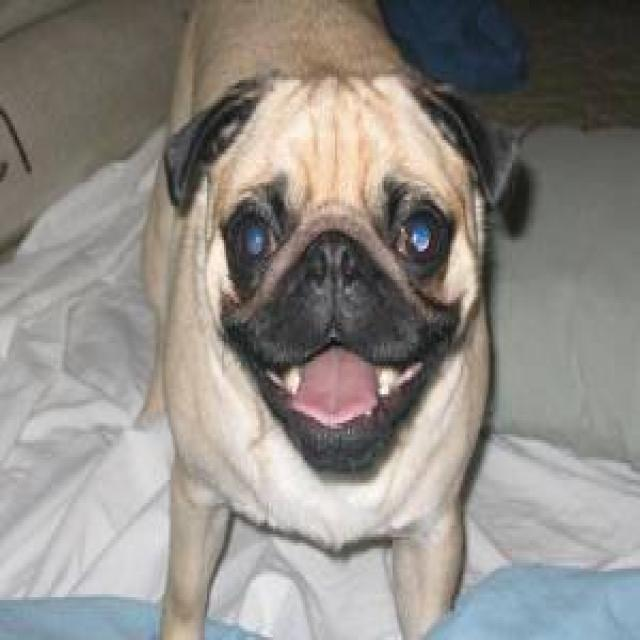dog-pug: (132, 3, 531, 634)
